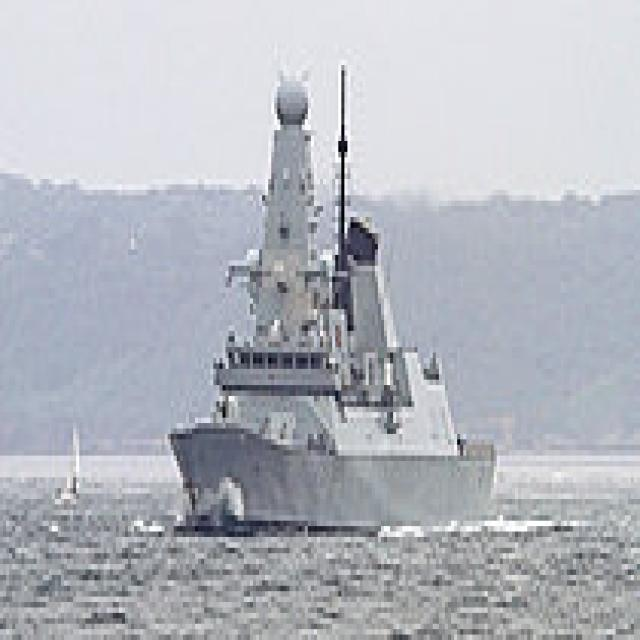Warship: (164, 49, 493, 526)
